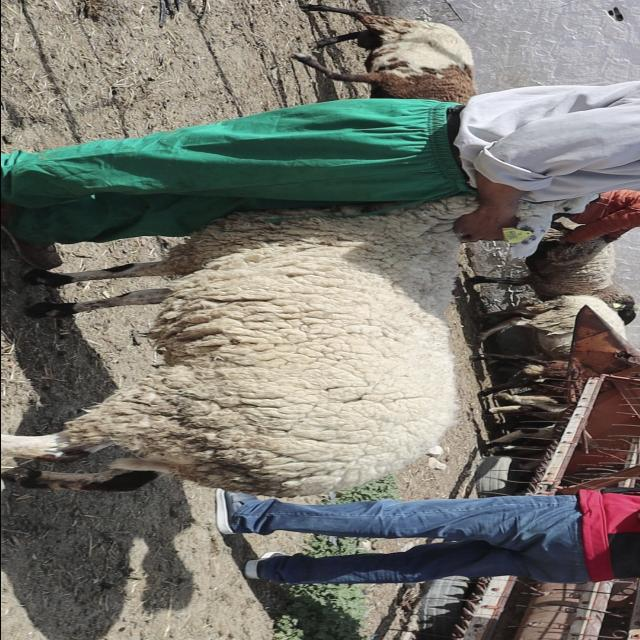Score_5: (1, 191, 478, 498)
